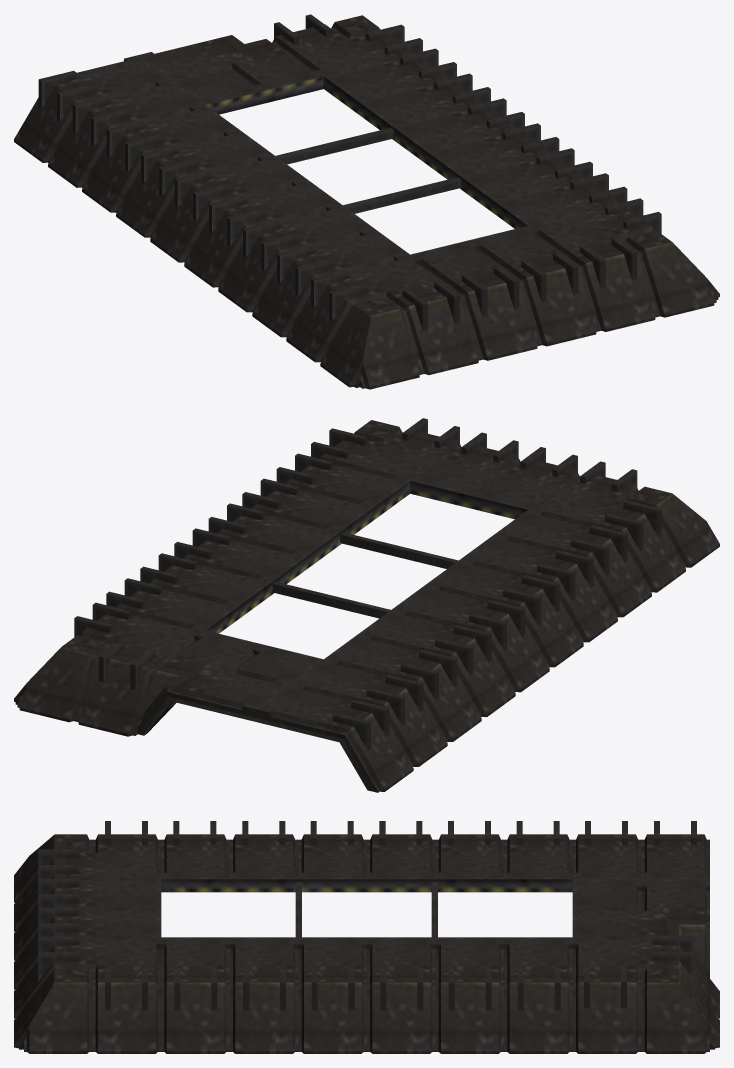
File: Autonomous_unit_2_Ceiling.FBX
3 renders of one model, top to bottom at view 1: azimuth 30°, elevation 25°; view 2: azimuth 150°, elevation 25°; view 3: azimuth 270°, elevation 25°, orthographic.
Visible parts, largest first — view 1: Autonomous_unit_2_Ceiling; view 2: Autonomous_unit_2_Ceiling; view 3: Autonomous_unit_2_Ceiling.
Boxes of the visible parts, box(x1,y1,x2,y2) form: Autonomous_unit_2_Ceiling: box(14, 14, 719, 389); Autonomous_unit_2_Ceiling: box(14, 418, 719, 792); Autonomous_unit_2_Ceiling: box(14, 821, 719, 1053).
Size of the model in its own units: 944 by 147 by 1544.
